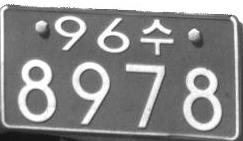6: (96, 17, 131, 54)
7: (125, 62, 166, 127)
8: (182, 66, 223, 131), (17, 58, 57, 123)
9: (71, 59, 110, 125), (53, 14, 88, 51)
수: (140, 17, 174, 55)
